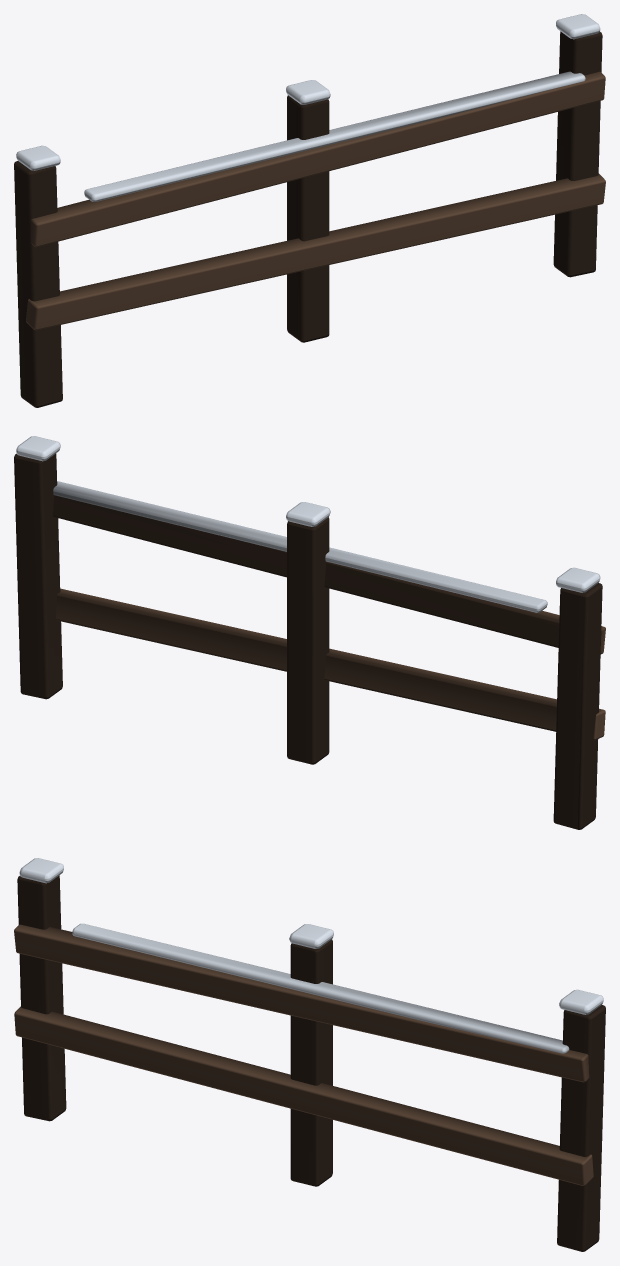
File: fence_rail.glb
3 views of the same model, one above another, from view 1: azimuth 30°, elevation 25°; view 2: azimuth 150°, elevation 25°; view 3: azimuth 330°, elevation 25° (orthographic).
Visible parts, largest first — view 1: FenceRail; view 2: FenceRail; view 3: FenceRail.
Boxes of the visible parts, x1,y1,x2,y2 form: FenceRail: (14, 14, 605, 407); FenceRail: (14, 436, 605, 829); FenceRail: (14, 858, 605, 1251).
Size of the model in its own units: 3.03 by 1.25 by 0.2027.
